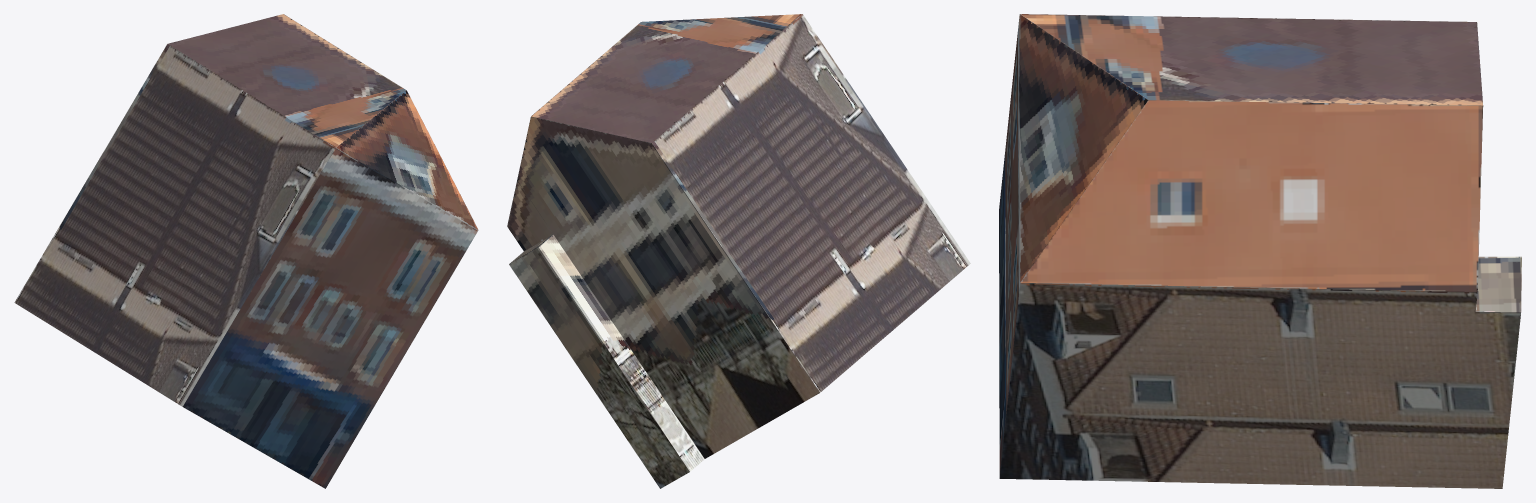
3 views of the same model, side by side, from view 1: azimuth 30°, elevation 25°; view 2: azimuth 150°, elevation 25°; view 3: azimuth 270°, elevation 25° (orthographic). The views are drawn at different scales.
Visible parts, largest first — view 1: BAG_0599100000675880 (×2); view 2: BAG_0599100000675880 (×4); view 3: BAG_0599100000675880 (×3).
Part boxes in pixels (x1,y1,x2,y2): BAG_0599100000675880 (×2): (14,14,478,488); BAG_0599100000675880 (×4): (507,14,970,488); BAG_0599100000675880 (×3): (999,14,1521,488).
Size of the model in its own units: 13.41 by 14.08 by 13.52.
Materials: 4 (4 with a texture image).
